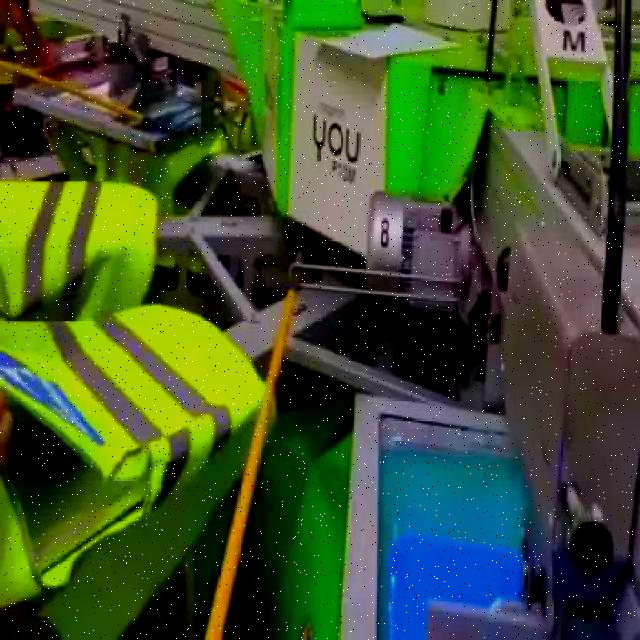Mask: (0, 312, 278, 639), (0, 180, 160, 322)
